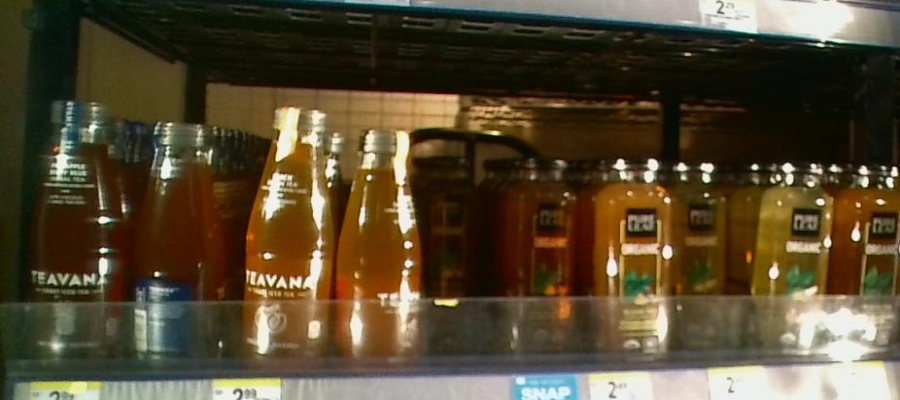bottle: (28, 96, 124, 367), (128, 109, 223, 373), (245, 96, 334, 369), (336, 116, 422, 365), (589, 158, 673, 364), (504, 151, 578, 356), (758, 153, 833, 350), (838, 151, 900, 348), (677, 149, 733, 337), (428, 154, 482, 311)
